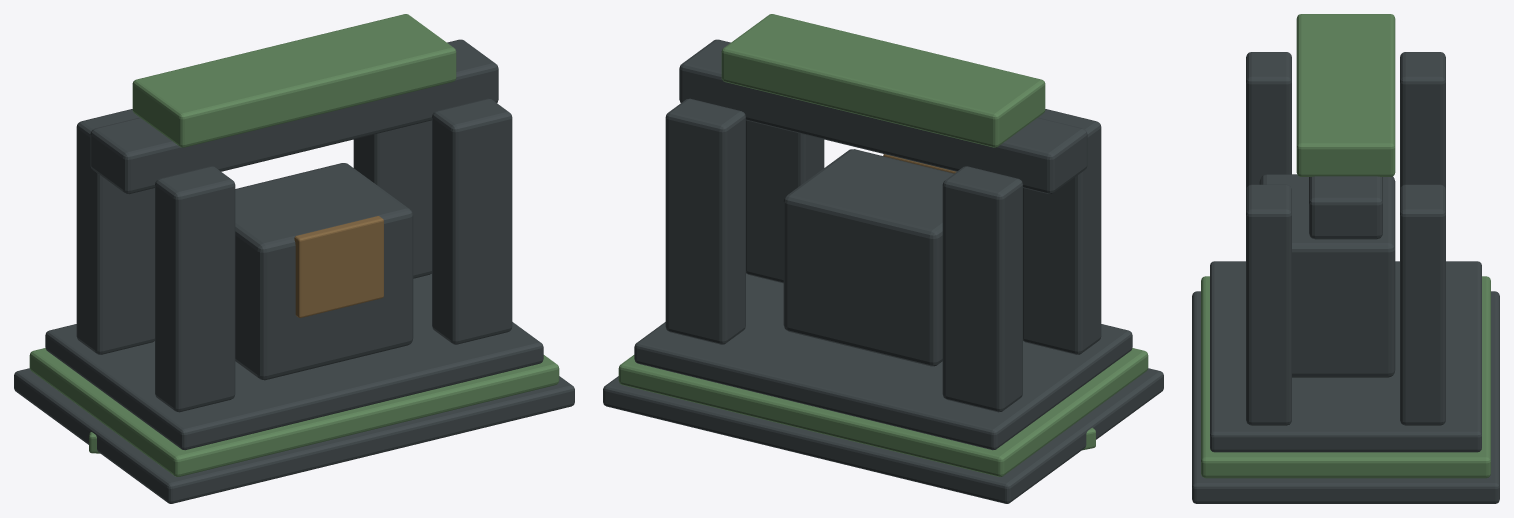
File: AF_WeatheredShrine.glb
3 views of the same model, side by side, from view 1: azimuth 30°, elevation 25°; view 2: azimuth 150°, elevation 25°; view 3: azimuth 270°, elevation 25° (orthographic).
Visible parts, largest first — view 1: AF_WeatheredShrine; view 2: AF_WeatheredShrine; view 3: AF_WeatheredShrine.
Part boxes in pixels (x1=…): AF_WeatheredShrine: x1=14, y1=14, x2=574, y2=503; AF_WeatheredShrine: x1=603, y1=14, x2=1163, y2=503; AF_WeatheredShrine: x1=1192, y1=14, x2=1499, y2=503.
Size of the model in its own units: 3.64 by 2.86 by 2.4.
